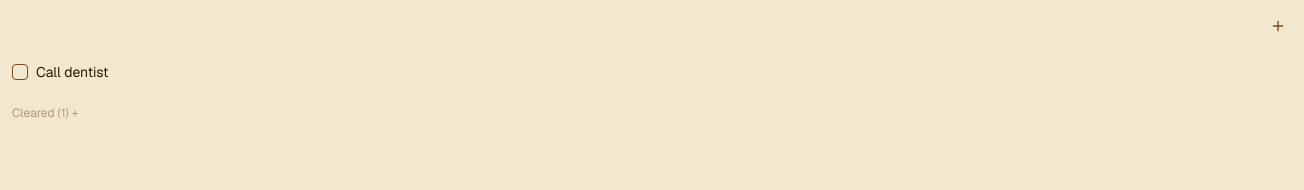
Test: BackOfMind › adds a new item
Check: the button "Call dentist" is shown, box 36,62 -> 1274,82
Click the button named "Add item" at [1278, 26], box 1264,12 -> 1292,40
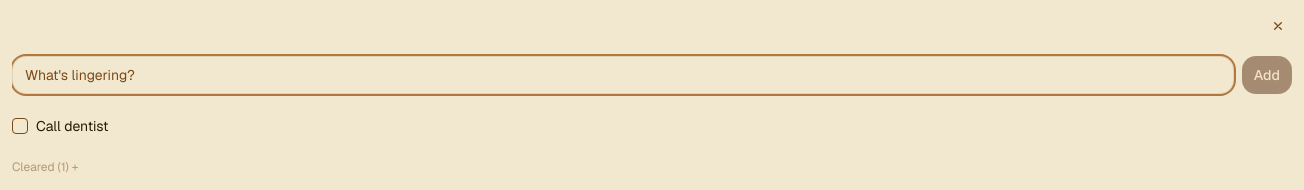
Type "New item" into the field with placeholder "What's lingering?" at [623, 75], box 12,56 -> 1234,94
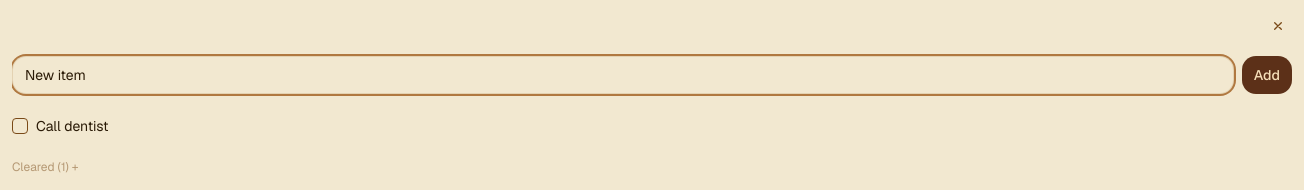
Click the button "Add" at [1267, 75], box 1242,56 -> 1292,94
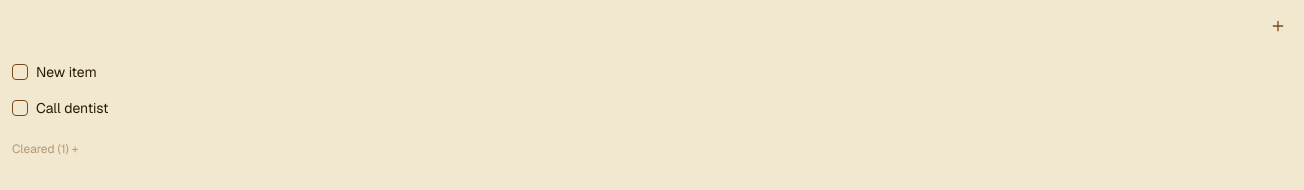
Check: the button "New item" is shown, box 36,62 -> 1274,82
